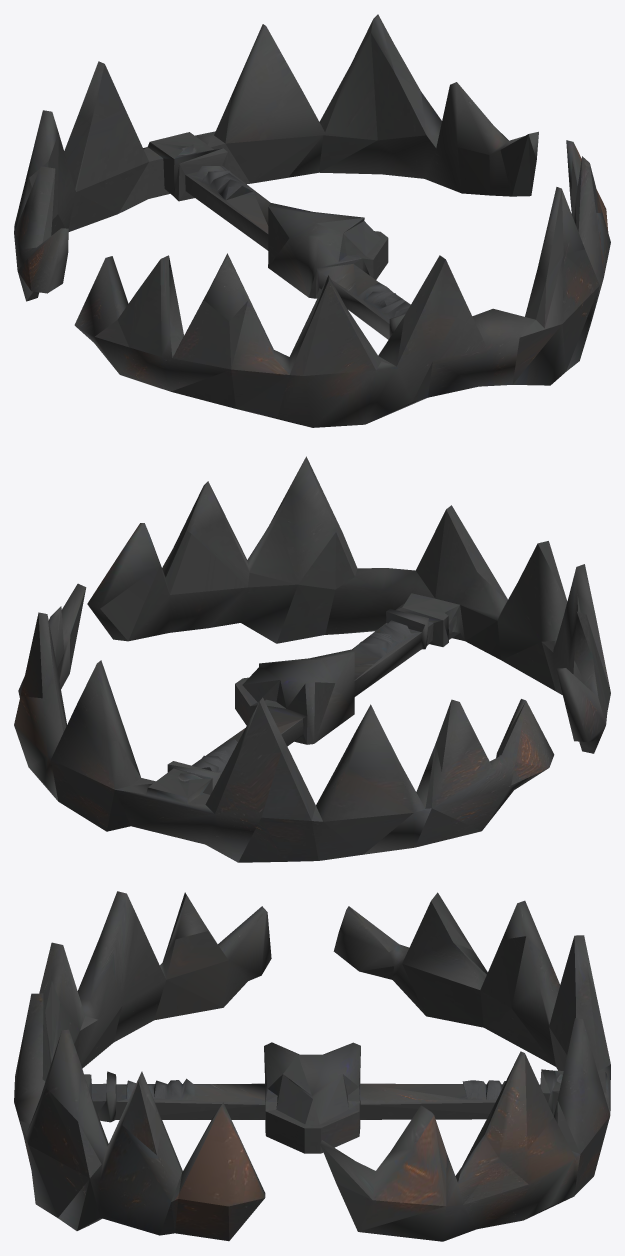
File: beartrapopened.fbx
The picture shows the model from 3 angles, top to bottom: view 1: azimuth 30°, elevation 25°; view 2: azimuth 150°, elevation 25°; view 3: azimuth 270°, elevation 25°; orthographic projection. The views are drawn at different scales.
Parts seen in each view (by area): view 1: tripo_node_5117bf49.001; view 2: tripo_node_5117bf49.001; view 3: tripo_node_5117bf49.001.
Boxes of the visible parts, x1,y1,x2,y2 form: tripo_node_5117bf49.001: (14,14,610,427); tripo_node_5117bf49.001: (14,456,610,862); tripo_node_5117bf49.001: (14,891,610,1241).
Size of the model in its own units: 100 by 34.36 by 98.69.
Materials: 1 (1 with a texture image).
